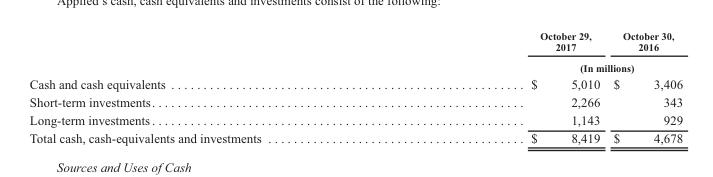table: (28, 28, 682, 146)
table column: (28, 28, 395, 146), (395, 28, 606, 146), (606, 28, 682, 146)
table column header: (28, 28, 682, 74)
table row: (28, 28, 682, 56), (28, 56, 682, 74), (28, 74, 682, 92), (28, 92, 682, 110), (28, 110, 682, 128), (28, 128, 682, 146)
table spanning cell: (395, 56, 682, 74)
